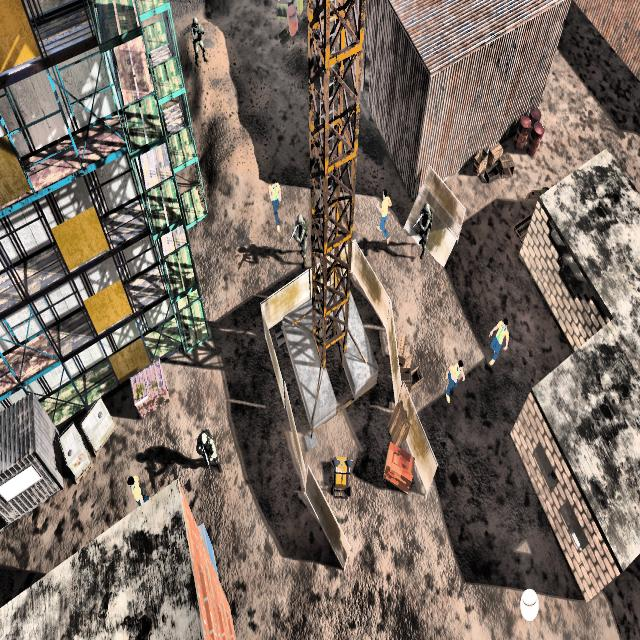bad: (192, 413, 224, 478), (414, 196, 435, 266), (186, 10, 207, 69), (290, 208, 308, 270)
good: (488, 305, 510, 380), (374, 178, 394, 250), (125, 459, 152, 511), (444, 349, 465, 407), (268, 165, 284, 241)
